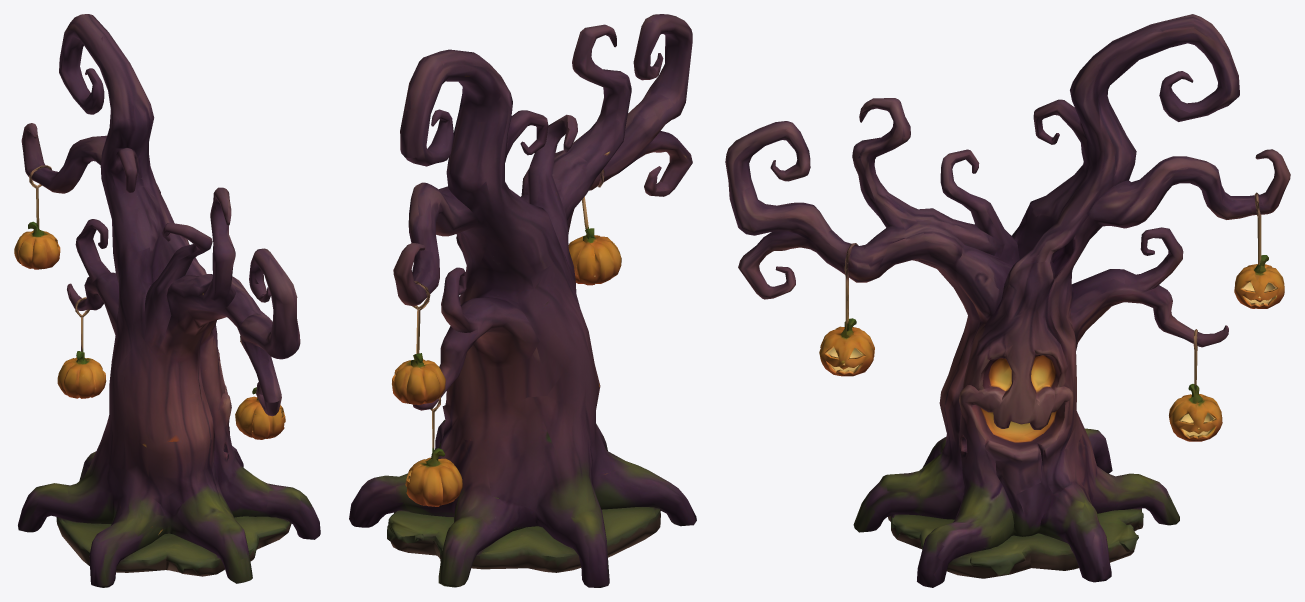
File: H2_SpookyTree_LOD1.fbx
The picture shows the model from 3 angles, left to right: view 1: azimuth 30°, elevation 25°; view 2: azimuth 150°, elevation 25°; view 3: azimuth 270°, elevation 25°; orthographic projection. The views are drawn at different scales.
Parts seen in each view (by area): view 1: H2_SpookyTree_LOD1; view 2: H2_SpookyTree_LOD1; view 3: H2_SpookyTree_LOD1.
Boxes of the visible parts, x1,y1,x2,y2 form: H2_SpookyTree_LOD1: (14, 14, 320, 587); H2_SpookyTree_LOD1: (349, 14, 696, 587); H2_SpookyTree_LOD1: (725, 14, 1290, 587).
Bounding box in the file's own units: 1.84 × 3.6 × 3.61.
Materials: 1 (1 with a texture image).
